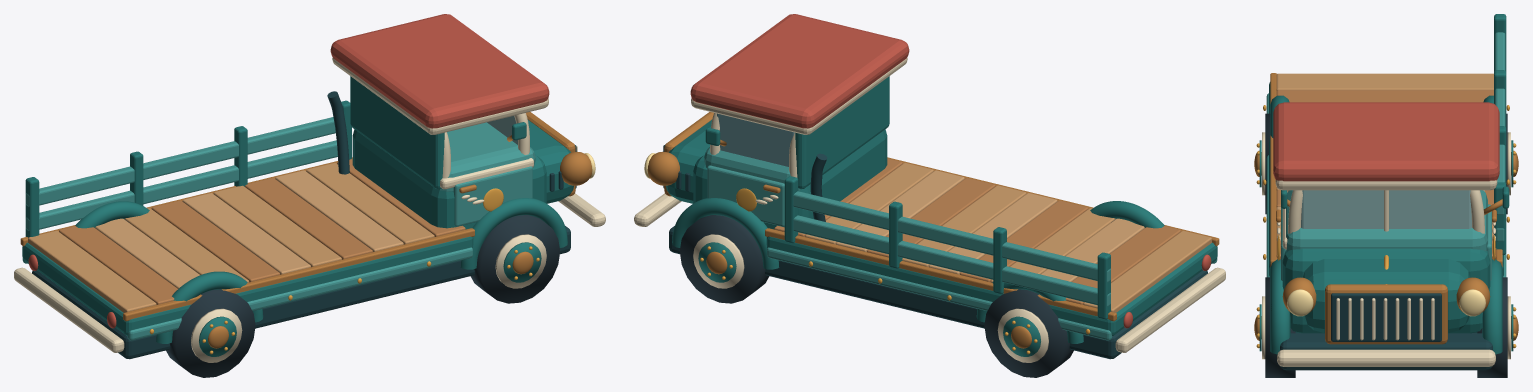
The model's file is westwind.glb.
The picture shows the model from 3 angles, left to right: view 1: azimuth 30°, elevation 25°; view 2: azimuth 150°, elevation 25°; view 3: azimuth 270°, elevation 25°; orthographic projection. The views are drawn at different scales.
Parts seen in each view (by area): view 1: body_267875, body_469995, body_BC5849, body_C99967, body_B98151, body_D0A272, body_E7D8B9, body_273841, body_21454C, body_B57B3F, body_E4A647; view 2: body_267875, body_469995, body_BC5849, body_C99967, body_273841, body_E7D8B9, body_B98151, body_21454C, body_D0A272, body_B57B3F, body_68939A, body_E4A647; view 3: body_BC5849, body_267875, body_E7D8B9, body_21454C, body_8DB6B7, body_469995, body_B57B3F, body_C99967, body_B98151, body_273841, body_FFE6A7, body_E4A647.
Part boxes in pixels (<box>): body_267875: <box>22,76,573,356</box>; body_469995: <box>22,117,535,340</box>; body_BC5849: <box>28,14,549,328</box>; body_C99967: <box>28,163,434,312</box>; body_B98151: <box>59,158,465,304</box>; body_D0A272: <box>95,170,403,288</box>; body_E7D8B9: <box>14,58,605,362</box>; body_273841: <box>124,215,560,377</box>; body_21454C: <box>32,91,576,359</box>; body_B57B3F: <box>20,112,592,348</box>; body_E4A647: <box>149,188,539,354</box>; body_267875: <box>666,76,1217,356</box>; body_469995: <box>704,147,1217,340</box>; body_BC5849: <box>690,14,1211,328</box>; body_C99967: <box>805,163,1211,312</box>; body_273841: <box>679,215,1115,377</box>; body_E7D8B9: <box>634,58,1225,362</box>; body_B98151: <box>774,158,1180,304</box>; body_21454C: <box>663,145,1207,359</box>; body_D0A272: <box>836,170,1144,281</box>; body_B57B3F: <box>647,112,1219,348</box>; body_68939A: <box>717,113,794,166</box>; body_E4A647: <box>700,188,1090,354</box>; body_BC5849: <box>1273,102,1499,181</box>; body_267875: <box>1259,14,1513,354</box>; body_E7D8B9: <box>1262,132,1510,366</box>; body_21454C: <box>1280,293,1492,370</box>; body_8DB6B7: <box>1301,190,1471,228</box>; body_469995: <box>1266,32,1506,280</box>; body_B57B3F: <box>1254,73,1518,344</box>; body_C99967: <box>1276,73,1493,240</box>; body_B98151: <box>1276,90,1496,259</box>; body_273841: <box>1265,113,1507,377</box>; body_FFE6A7: <box>1287,289,1485,316</box>; body_E4A647: <box>1256,105,1516,348</box>.
Size of the model in its own units: 6.65 by 2.66 by 2.79.
